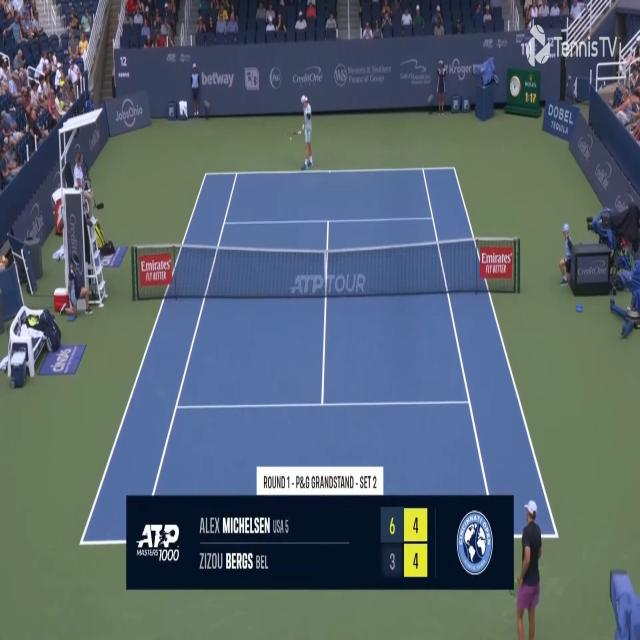tennis-player: (512, 498, 544, 639), (288, 92, 315, 172)
